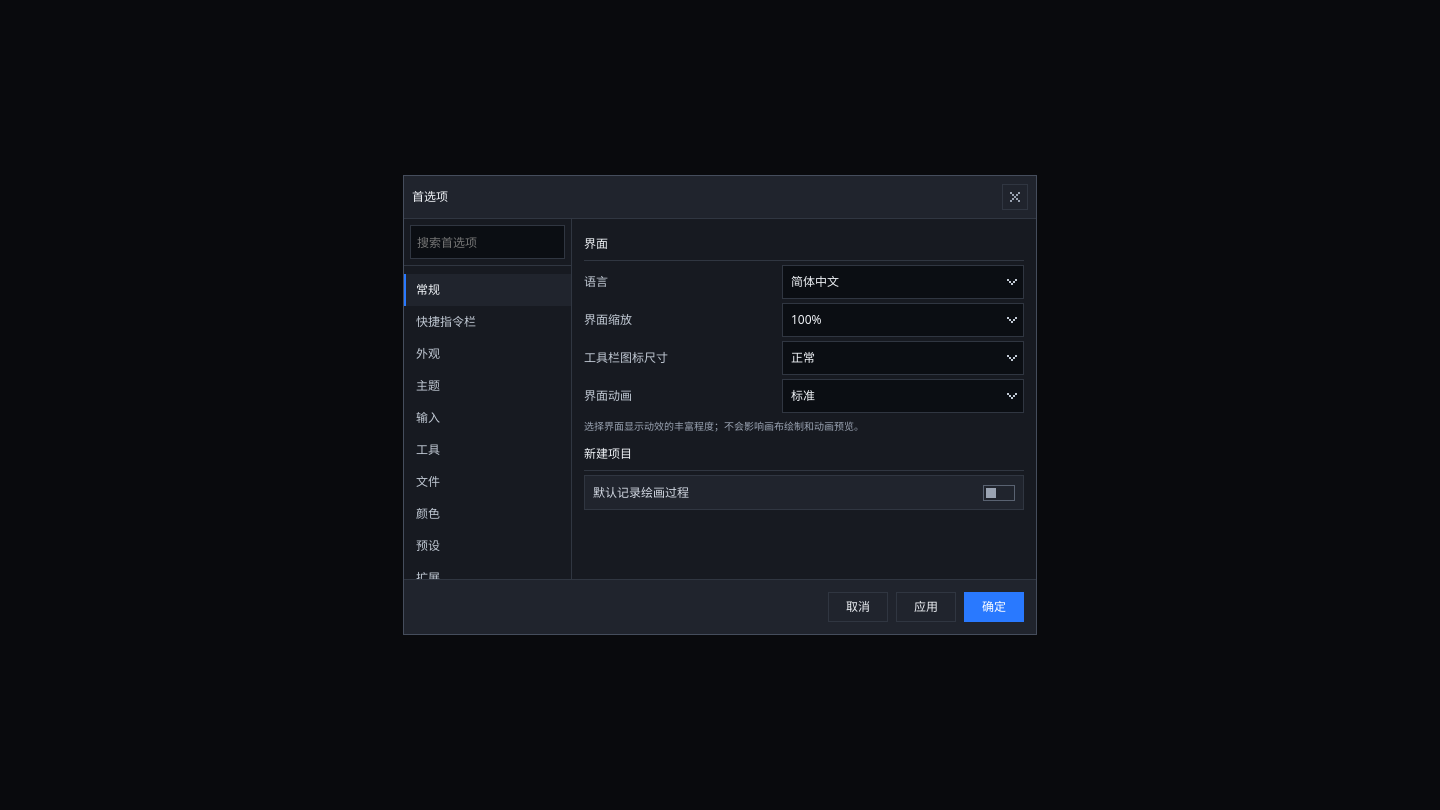
PreferencesDialog › separates system cursor behavior from tool previews
Click the button "输入": (488,418) [404,402,571,434]
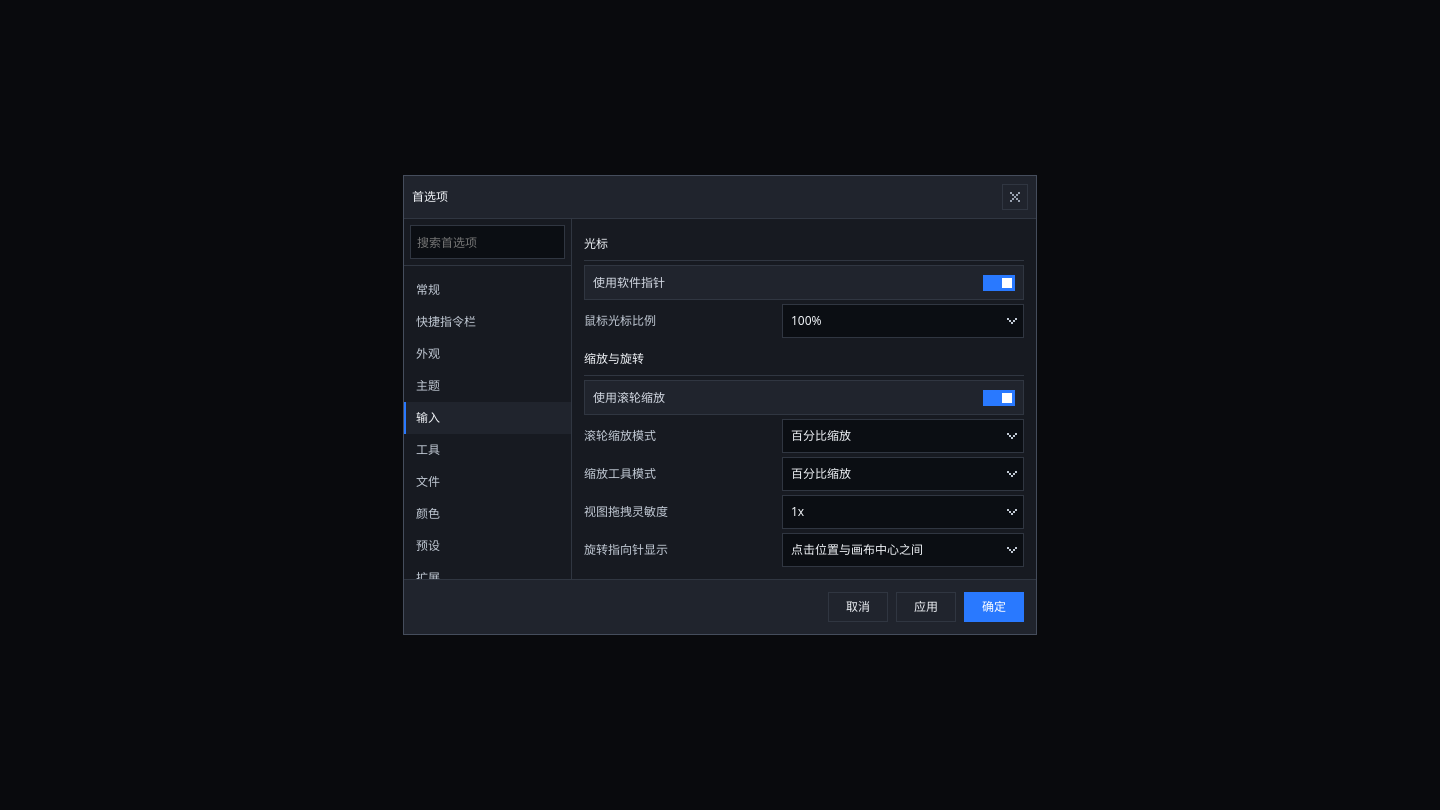
Expected: the button named "鼠标光标比例" is enabled, [782,304,1024,338]
Expected: the checkbox labelled "使用软件指针" is checked
Click the checkbox labelled "使用软件指针": (629,282) [584,265,1024,300]
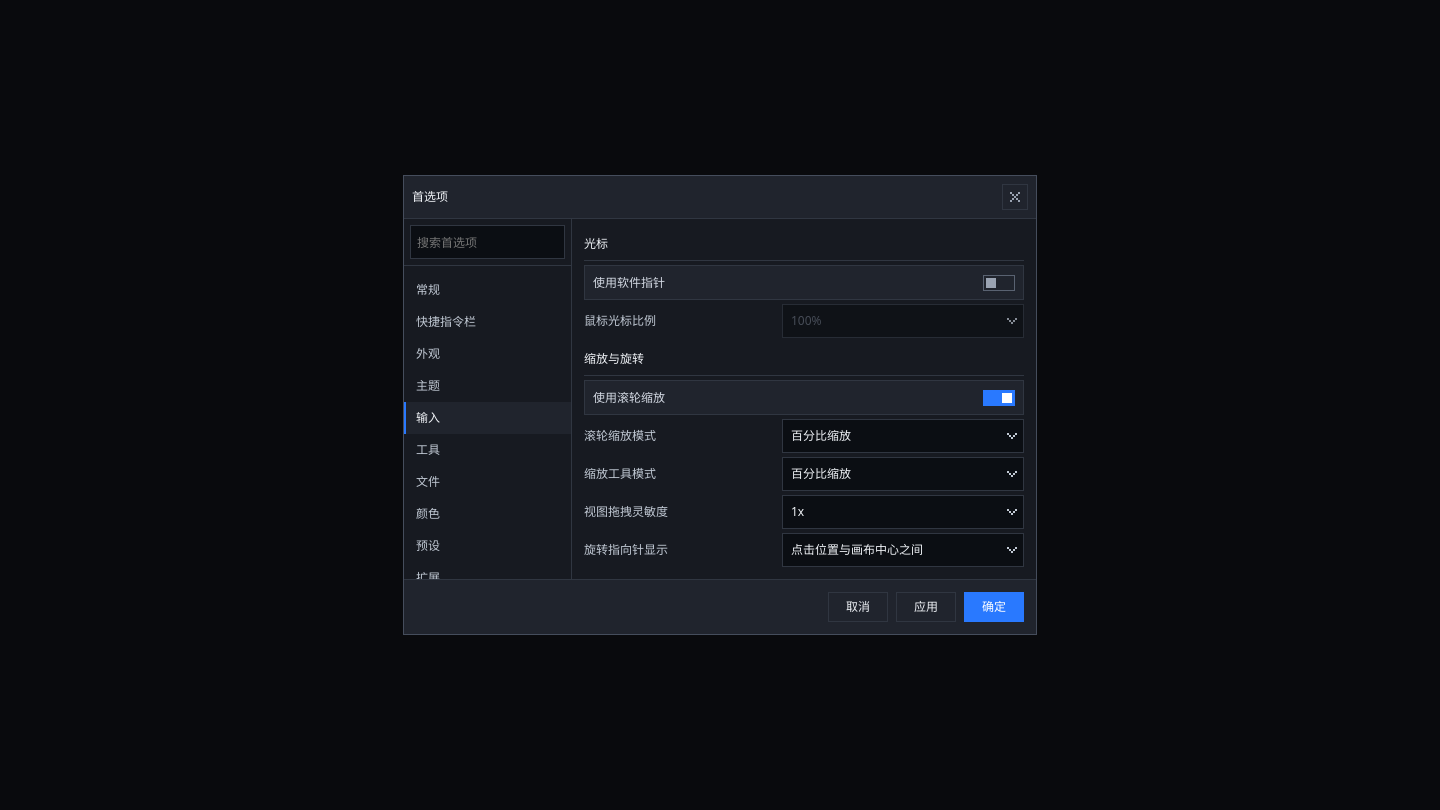
Expected: the text "笔刷预览" is not shown
Expected: the button named "鼠标光标比例" is disabled, [782,304,1024,338]
Click the button "工具": (488,450) [404,434,571,466]
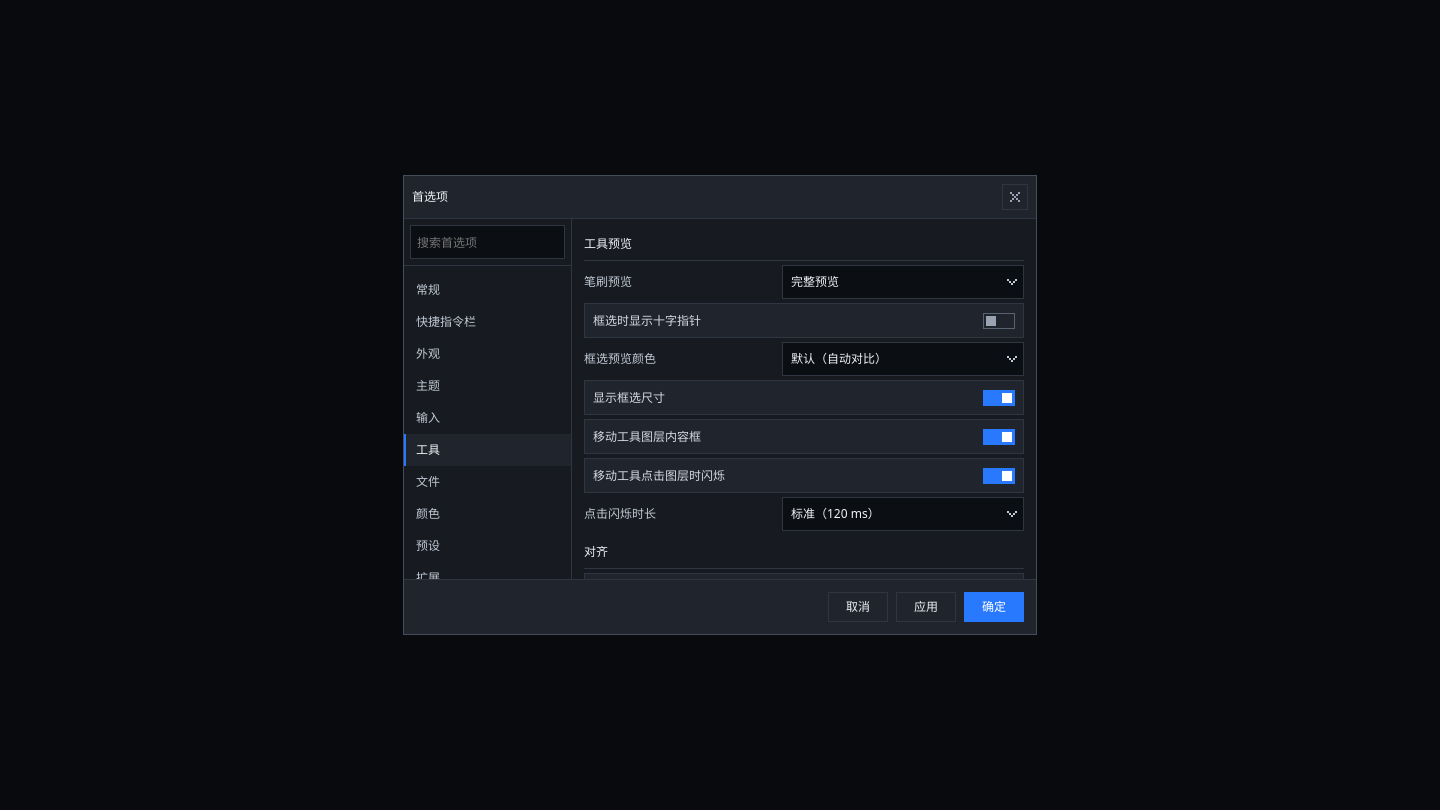
Expected: the text "绘制时显示笔刷边缘" is not shown
Expected: the text "笔刷预览" is shown, [584,273,632,290]
Expected: the text "完整预览" is shown, [791,273,839,290]
Click the button with aria-label "笔刷预览": (903,282) [782,265,1024,299]
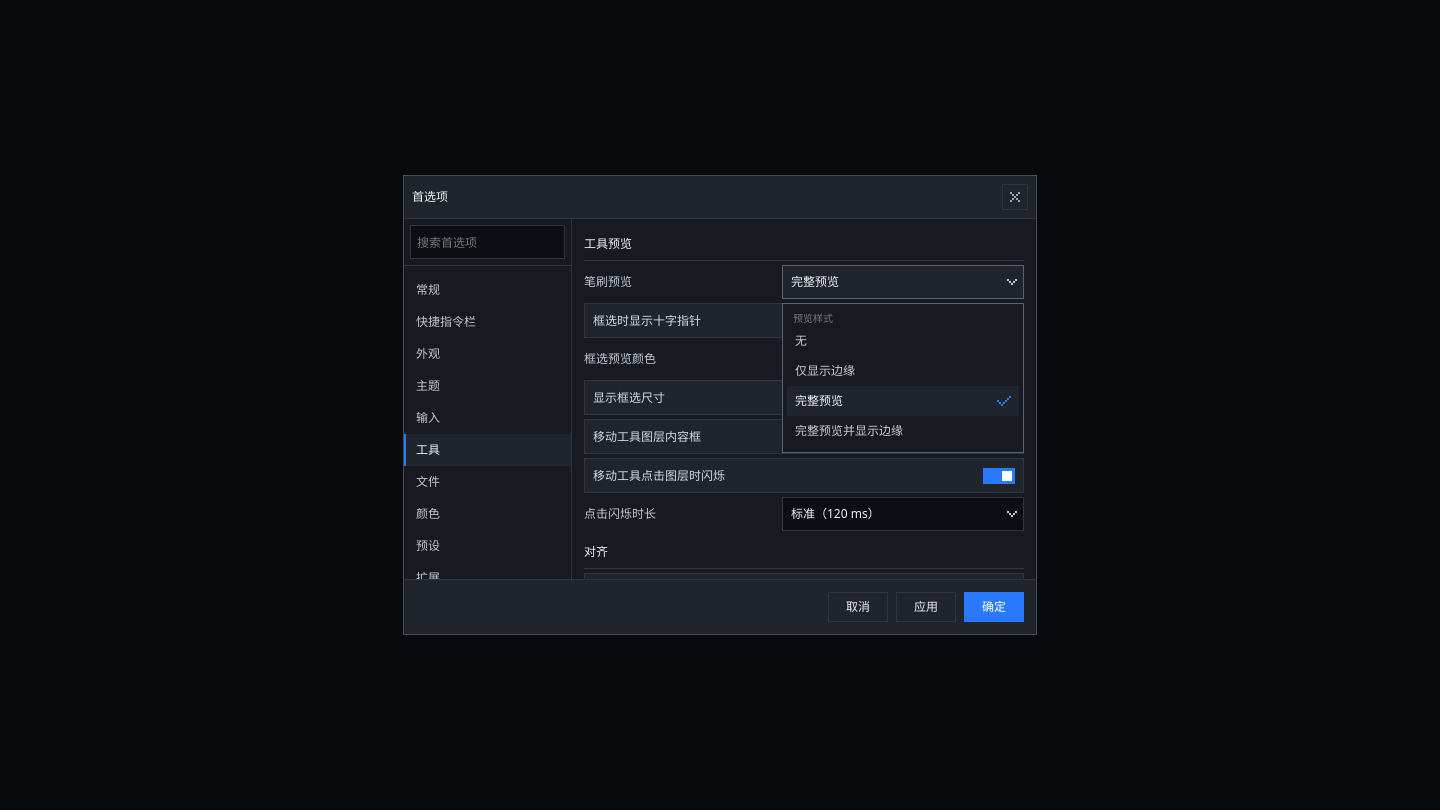
Click the option "完整预览并显示边缘": (903,431) [787,416,1019,446]
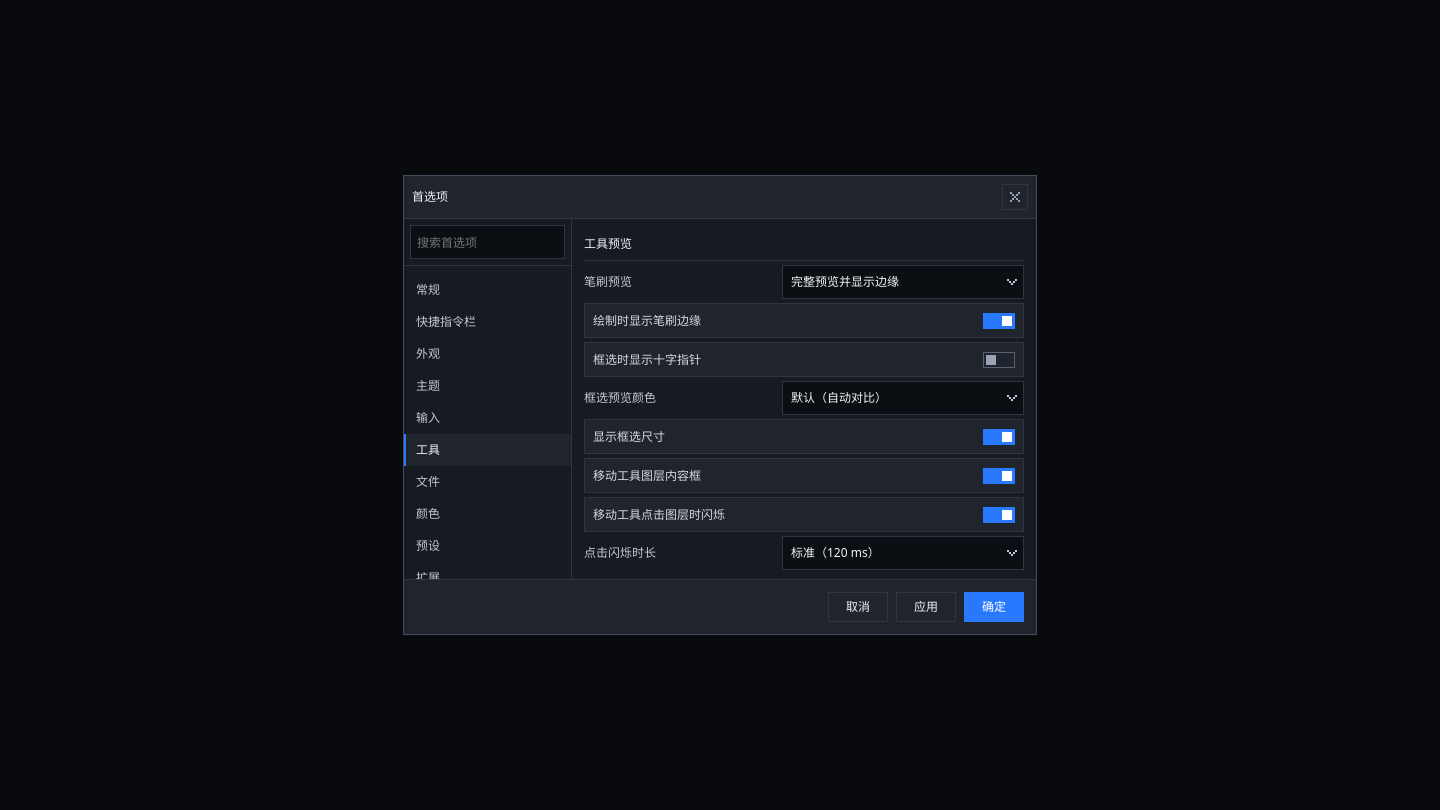
Expected: the text "框选时显示十字指针" is shown, [593,350,701,368]
Expected: the text "绘制时显示笔刷边缘" is shown, [593,312,701,328]
